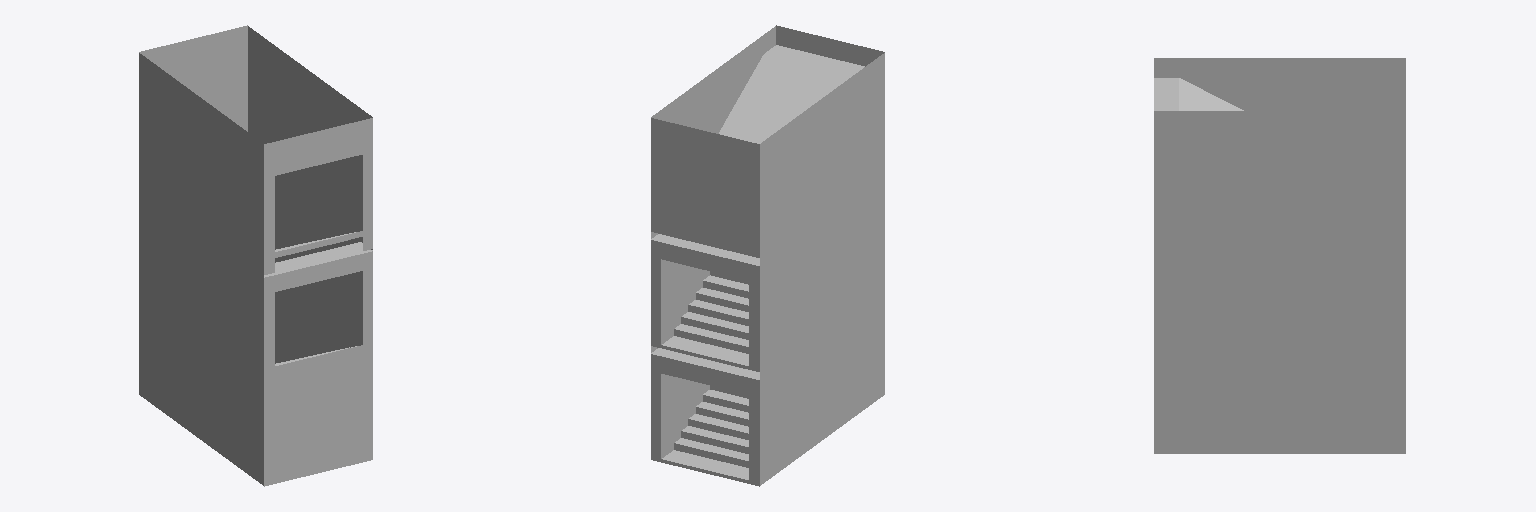
The picture shows the model from 3 angles: view 1: azimuth 30°, elevation 25°; view 2: azimuth 150°, elevation 25°; view 3: azimuth 270°, elevation 25°; orthographic projection.
Visible parts, largest first — view 1: objobjRegroup004; view 2: objobjRegroup004; view 3: objobjRegroup004.
Boxes of the visible parts, <box> form: objobjRegroup004: <box>139,25,372,486</box>; objobjRegroup004: <box>651,25,884,486</box>; objobjRegroup004: <box>1154,58,1405,453</box>.
Bounding box in the file's own units: 10 × 30 × 20.